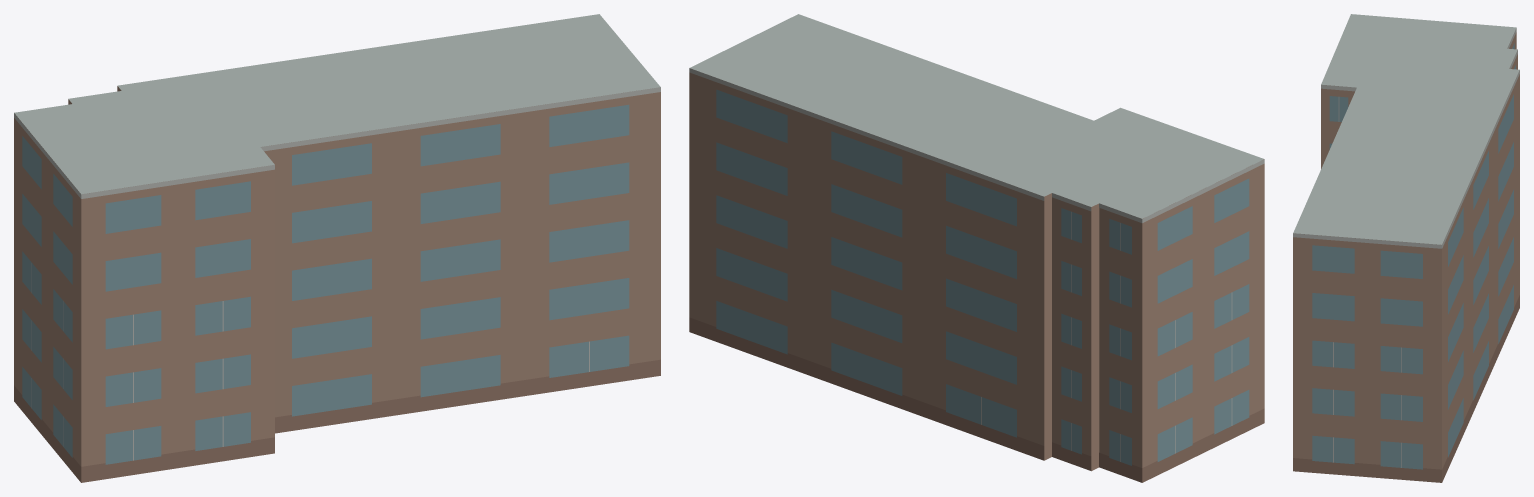
Rendered from survey-upis-32521367.glb.
The picture shows the model from 3 angles, left to right: view 1: azimuth 30°, elevation 25°; view 2: azimuth 150°, elevation 25°; view 3: azimuth 270°, elevation 25°; orthographic projection. The views are drawn at different scales.
Parts seen in each view (by area): view 1: survey-upis-32521367.tmp; view 2: survey-upis-32521367.tmp; view 3: survey-upis-32521367.tmp.
Boxes of the visible parts, box(x1,y1,x2,y2) form: survey-upis-32521367.tmp: box(14, 14, 660, 482); survey-upis-32521367.tmp: box(689, 14, 1264, 482); survey-upis-32521367.tmp: box(1293, 14, 1519, 482).
Bounding box in the file's own units: 30.37 × 14.6 × 12.62.
